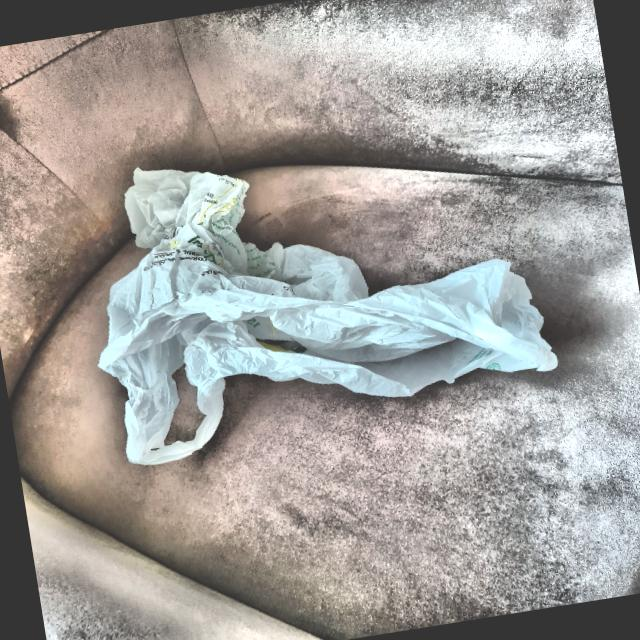plastic bag: (46, 91, 586, 480)
